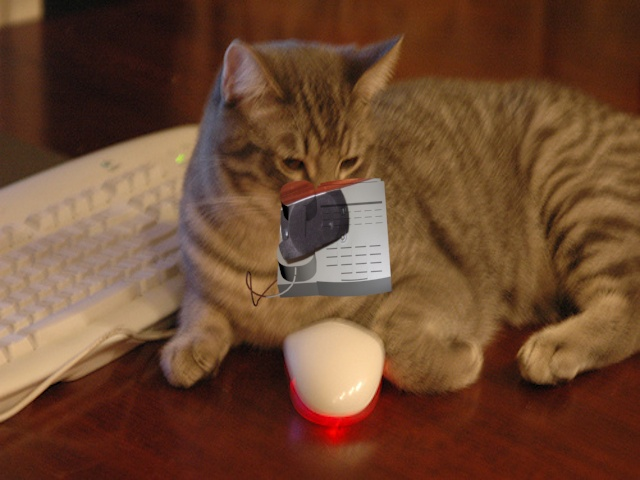phone: (240, 176, 392, 320)
